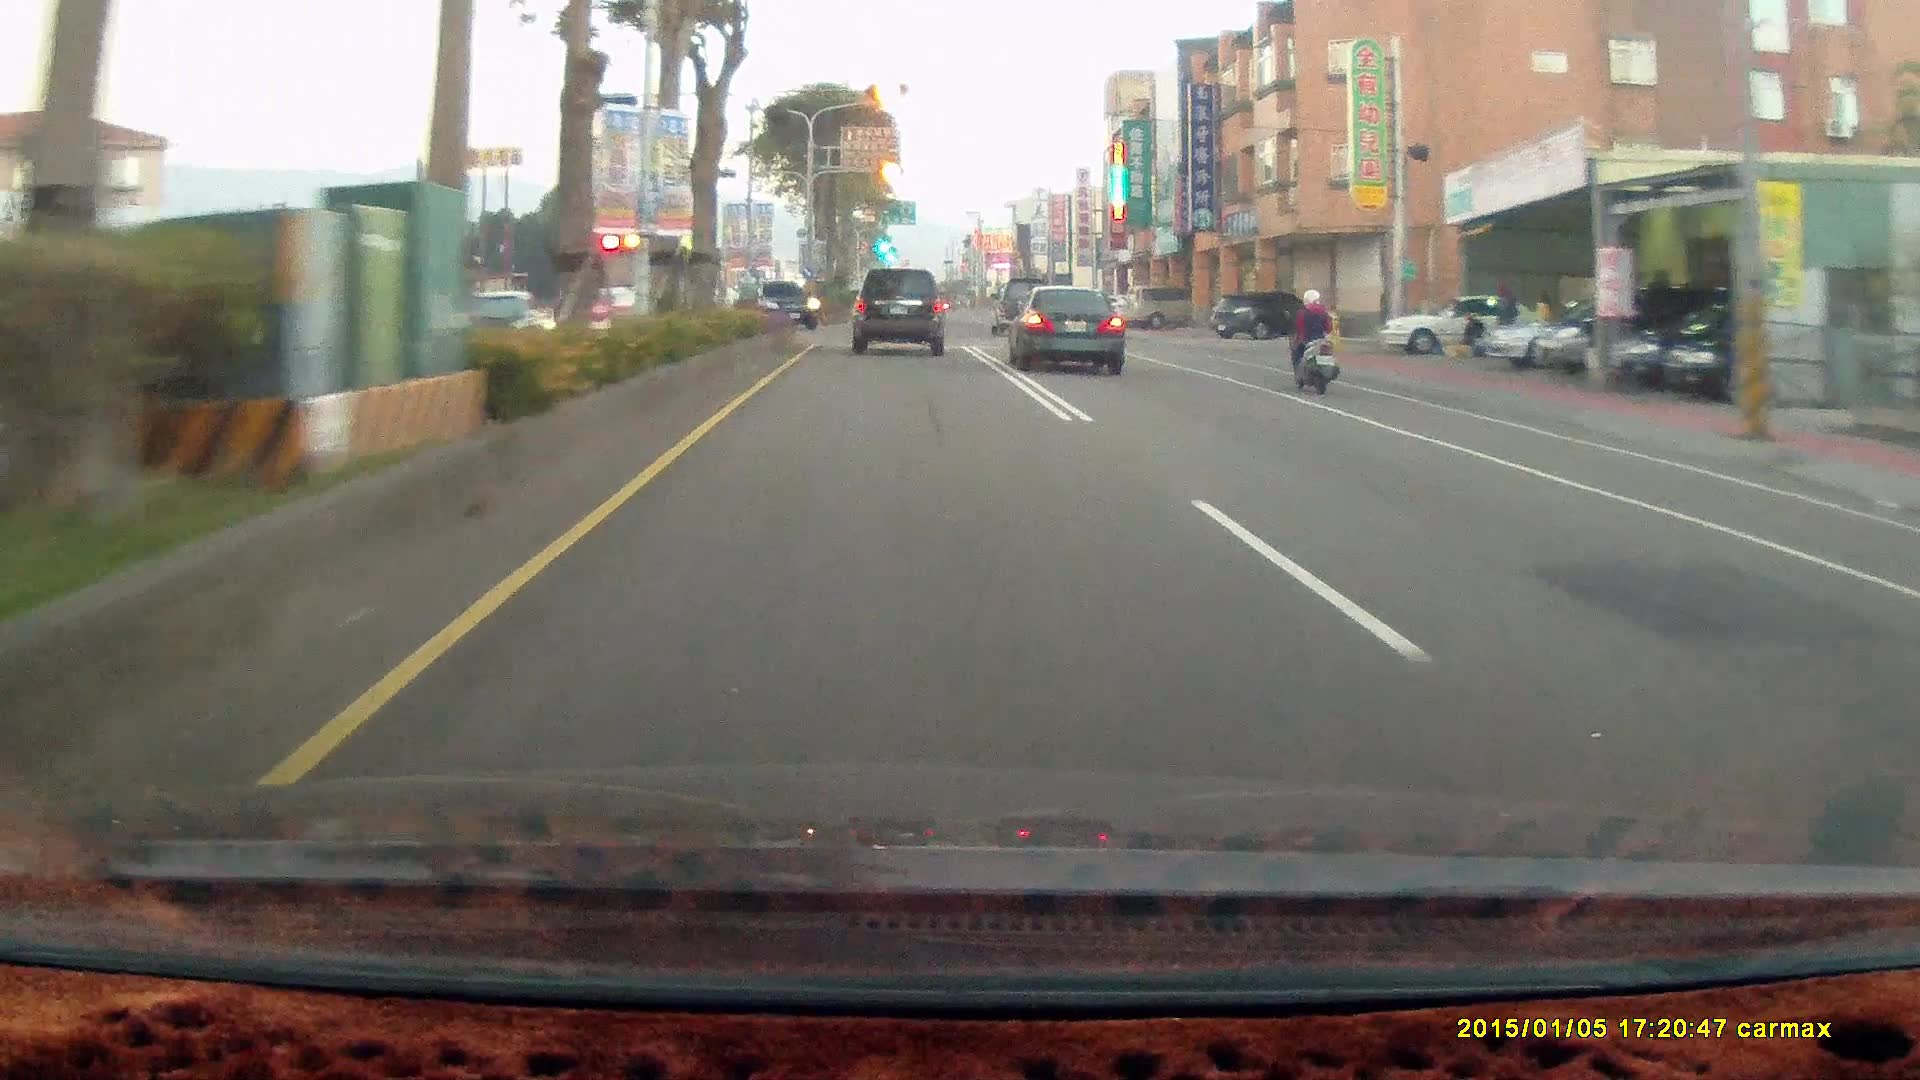pedestrian: (1493, 281, 1515, 353), (1459, 310, 1486, 358)
rider: (1273, 277, 1350, 405), (1282, 287, 1340, 394)
vehicle: (1669, 303, 1881, 405), (1607, 305, 1820, 394), (1534, 287, 1711, 375), (576, 230, 715, 339), (1373, 288, 1554, 362), (1485, 298, 1667, 371), (1018, 293, 1134, 389), (1004, 282, 1124, 372), (1378, 292, 1547, 355), (431, 287, 557, 363), (850, 274, 950, 364), (849, 269, 943, 355), (1213, 291, 1331, 347), (1205, 291, 1321, 340), (743, 280, 823, 333), (1121, 283, 1210, 331), (743, 279, 820, 330), (987, 279, 1052, 335)
